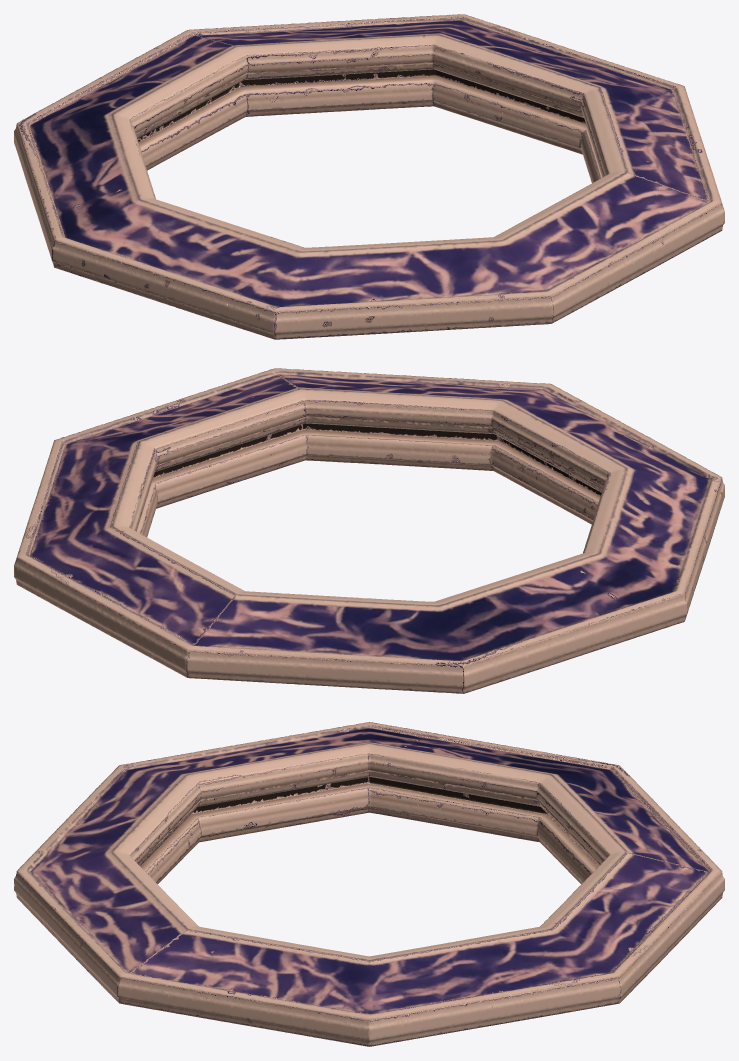
3 renders of one model, top to bottom at view 1: azimuth 30°, elevation 25°; view 2: azimuth 150°, elevation 25°; view 3: azimuth 270°, elevation 25°, orthographic. The views are drawn at different scales.
Size of the model in its own units: 1.99 by 0.2014 by 1.99.
1 material, 1 textured.
